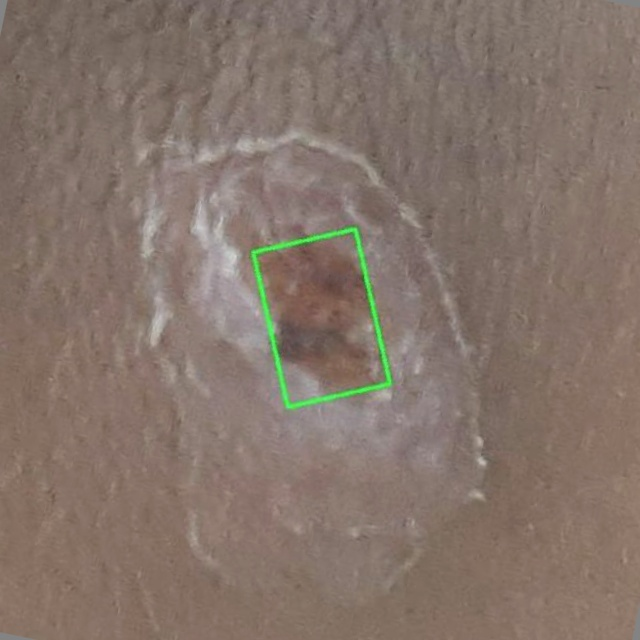Eczema: (253, 228, 391, 406)
